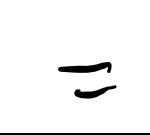eqv: (58, 62, 116, 99)
